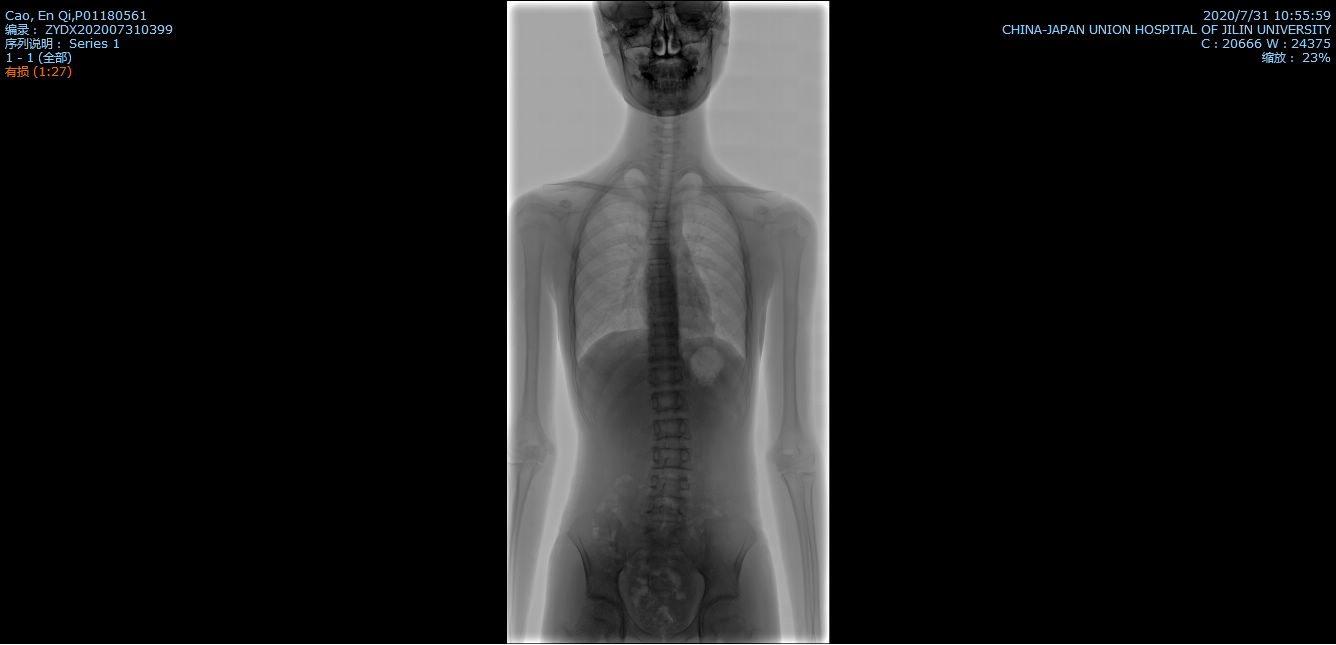胸10椎体: (651, 323, 679, 340)
胸11椎体: (650, 344, 679, 360)
胸12椎体: (650, 368, 682, 385)
胸1椎体: (657, 158, 679, 171)
胸2椎体: (657, 175, 676, 186)
胸3椎体: (653, 188, 673, 201)
胸4椎体: (652, 206, 669, 222)
胸5椎体: (649, 227, 669, 239)
胸6椎体: (648, 243, 670, 257)
胸7椎体: (648, 264, 673, 279)
胸8椎体: (648, 284, 674, 301)
胸9椎体: (648, 305, 677, 317)
腰1椎体: (653, 393, 687, 410)
腰2椎体: (655, 419, 690, 439)
腰3椎体: (653, 448, 691, 467)
腰4椎体: (651, 476, 688, 496)
腰5椎体: (651, 506, 686, 527)
